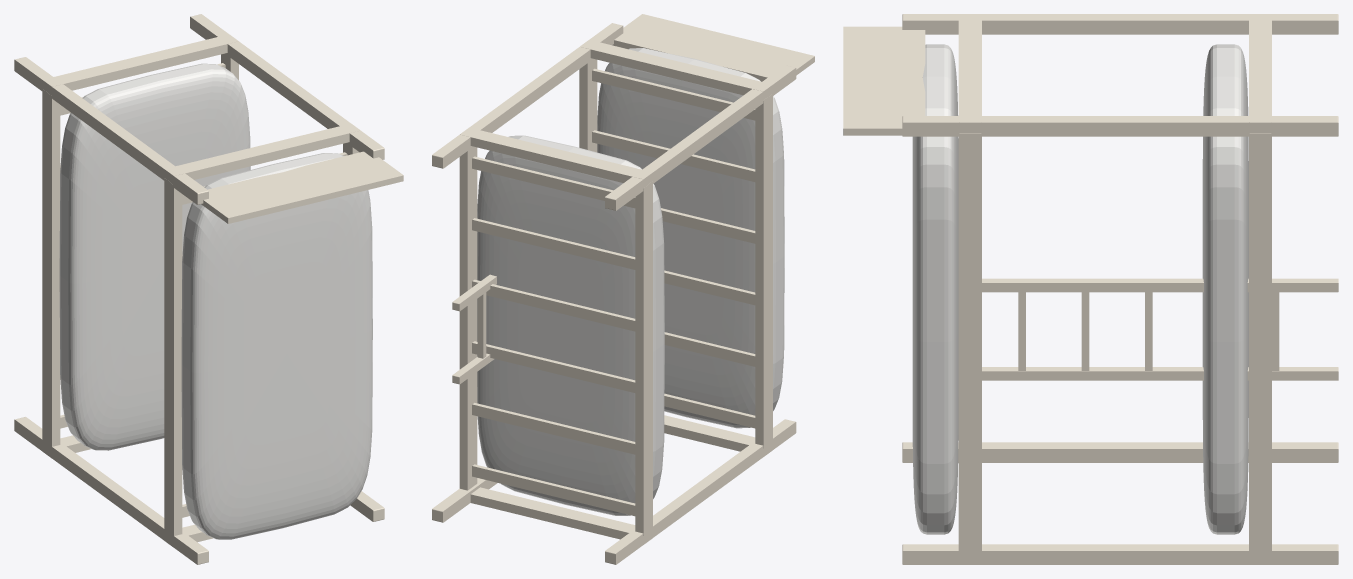
File: bunk_bed.glb
3 renders of one model, left to right at view 1: azimuth 30°, elevation 25°; view 2: azimuth 150°, elevation 25°; view 3: azimuth 270°, elevation 25°, orthographic. The views are drawn at different scales.
Visible parts, largest first — view 1: mattress_upper, mattress_lower, guard, rail_lower_6, rail_upper_17, post_1, post, post_3, rail_lower_5, rail_upper_16, post_2; view 2: mattress_lower, mattress_upper, rail_upper_17, rail_lower_6, guard, rail_lower_7, post_1, post, post_3, rail_lower_5, rail_upper_16, rail_lower (+18 smaller); view 3: mattress_lower, mattress_upper, rail_upper_18, rail_lower_7, post_3, post_2, guard, post_1, post, ladder_rail_28, ladder_rail, rail_upper_16 (+5 smaller).
Part boxes in pixels (x1,y1,x2,y2): mattress_upper: [181, 153, 372, 539]; mattress_lower: [59, 63, 250, 450]; guard: [201, 151, 403, 223]; rail_lower_6: [42, 89, 60, 449]; rail_upper_17: [164, 178, 182, 538]; post_1: [14, 57, 208, 204]; post: [14, 417, 208, 564]; post_3: [190, 14, 384, 159]; rail_lower_5: [42, 34, 238, 90]; rail_upper_16: [164, 123, 360, 181]; post_2: [350, 491, 384, 521]; mattress_lower: [477, 135, 664, 515]; mattress_upper: [597, 48, 784, 428]; rail_upper_17: [755, 93, 772, 448]; rail_lower_6: [635, 181, 652, 535]; guard: [612, 14, 814, 81]; rail_lower_7: [459, 146, 477, 490]; post_1: [605, 65, 796, 210]; post: [605, 419, 796, 564]; post_3: [432, 23, 623, 168]; rail_lower_5: [460, 127, 652, 186]; rail_upper_16: [580, 40, 772, 95]; rail_lower: [470, 487, 652, 544]; mattress_lower: [1202, 44, 1248, 534]; mattress_upper: [912, 44, 958, 534]; rail_upper_18: [958, 133, 981, 554]; rail_lower_7: [1249, 133, 1271, 554]; post_3: [902, 116, 1338, 136]; post_2: [902, 544, 1338, 564]; guard: [843, 26, 925, 135]; post_1: [902, 14, 1338, 34]; post: [902, 442, 1338, 462]; ladder_rail_28: [982, 278, 1338, 292]; ladder_rail: [982, 367, 1338, 380]; rail_upper_16: [958, 14, 981, 132].
Bounding box in the file's own units: 1 × 1.9 × 1.93.
